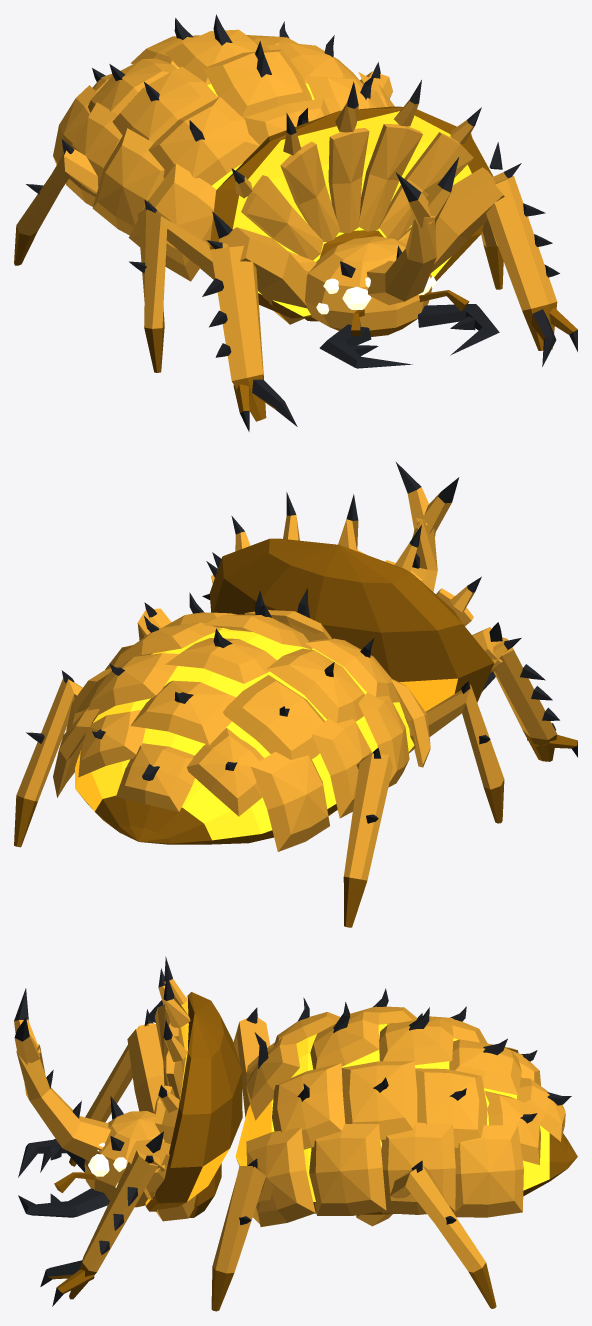
File: matriarch.glb
3 renders of one model, top to bottom at view 1: azimuth 30°, elevation 25°; view 2: azimuth 150°, elevation 25°; view 3: azimuth 270°, elevation 25°, orthographic. The views are drawn at different scales.
Parts seen in each view (by area): view 1: body, leg_R1, leg_L1, leg_R2, leg_R3, jaw_L, jaw_R, leg_L2; view 2: body, leg_R3, leg_R1, leg_L3, leg_R2, leg_L2; view 3: body, leg_L1, leg_R1, leg_L3, leg_L2, jaw_L, leg_R2, jaw_R.
Part boxes in pixels (x1=…): body: x1=53, y1=14, x2=521, y2=336; leg_R1: x1=202, y1=211, x2=307, y2=431; leg_L1: x1=431, y1=142, x2=577, y2=366; leg_R2: x1=129, y1=199, x2=215, y2=372; leg_R3: x1=14, y1=139, x2=98, y2=265; jaw_L: x1=418, y1=304, x2=499, y2=355; jaw_R: x1=319, y1=324, x2=412, y2=368; leg_L2: x1=470, y1=133, x2=503, y2=289; body: x1=53, y1=462, x2=521, y2=851; leg_R3: x1=328, y1=747, x2=392, y2=927; leg_R1: x1=406, y1=622, x2=577, y2=761; leg_L3: x1=14, y1=670, x2=82, y2=847; leg_R2: x1=407, y1=681, x2=504, y2=823; leg_L2: x1=137, y1=602, x2=171, y2=640; body: x1=14, y1=956, x2=577, y2=1226; leg_L1: x1=40, y1=1131, x2=196, y2=1306; leg_R1: x1=40, y1=1000, x2=164, y2=1172; leg_L3: x1=356, y1=1160, x2=496, y2=1308; leg_L2: x1=211, y1=1158, x2=273, y2=1311; jaw_L: x1=18, y1=1188, x2=109, y2=1217; leg_R2: x1=233, y1=1007, x2=270, y2=1117; jaw_R: x1=18, y1=1139, x2=85, y2=1177.
Bounding box in the file's own units: 19.85 × 14.03 × 28.
